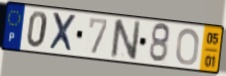0: (25, 10, 49, 50)
7: (88, 16, 110, 56)
8: (148, 22, 172, 66)
N: (109, 18, 143, 62)
O: (175, 27, 201, 67)
X: (47, 11, 78, 55)
